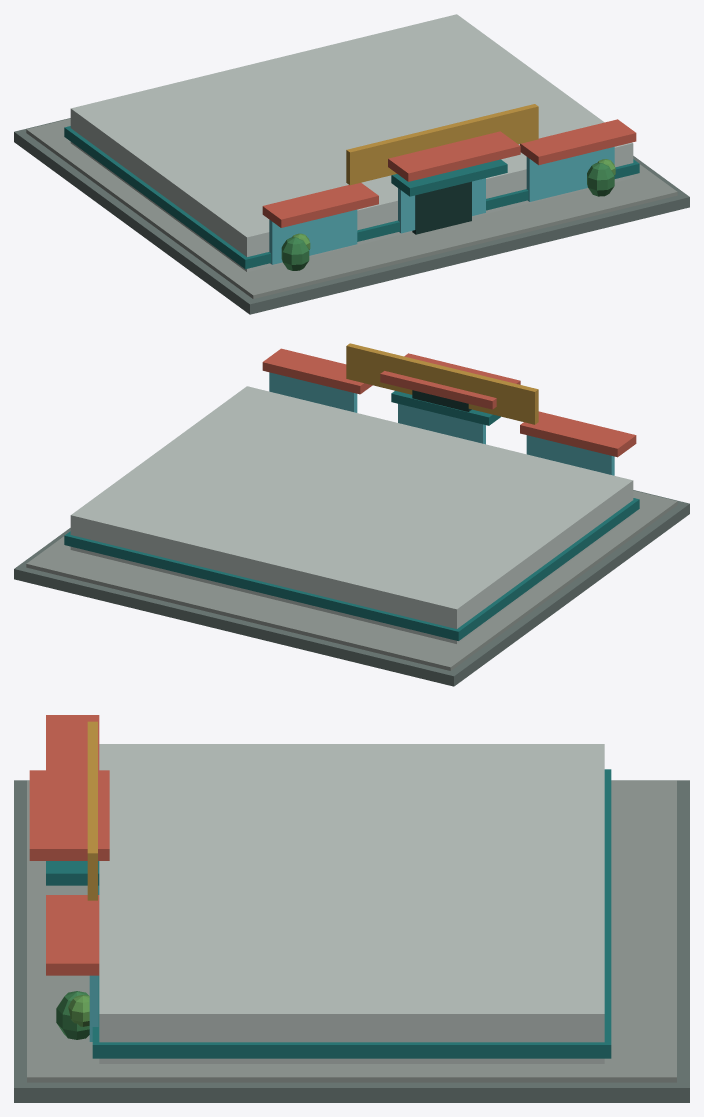
The model's file is supermarket_lv1.glb.
3 renders of one model, top to bottom at view 1: azimuth 30°, elevation 25°; view 2: azimuth 150°, elevation 25°; view 3: azimuth 270°, elevation 25°, orthographic. The views are drawn at different scales.
Parts seen in each view (by area): view 1: rough, glossy; view 2: rough, glossy; view 3: rough, glossy.
Part boxes in pixels (x1,y1,x2,y2): rough: (14,14,689,314); glossy: (269,147,614,264); rough: (14,343,689,686); glossy: (269,372,614,475); rough: (14,715,689,1102); glossy: (89,885,98,1041).
Size of the model in its own units: 9.8 by 2.4 by 9.1.
